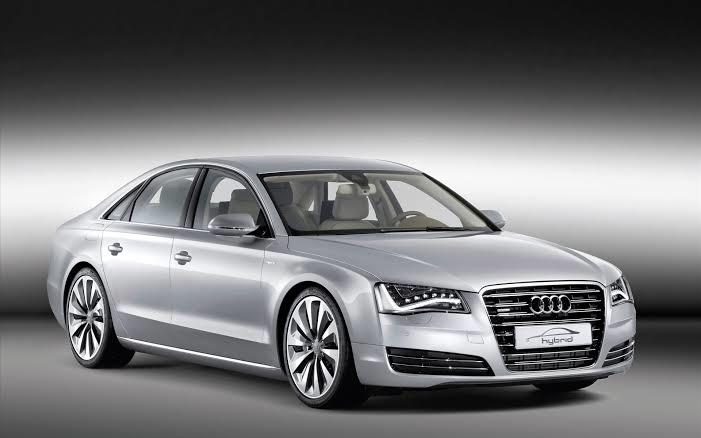audi: (34, 142, 645, 418)
